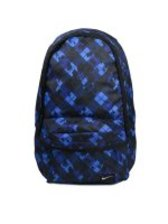bag: (28, 31, 143, 186)
